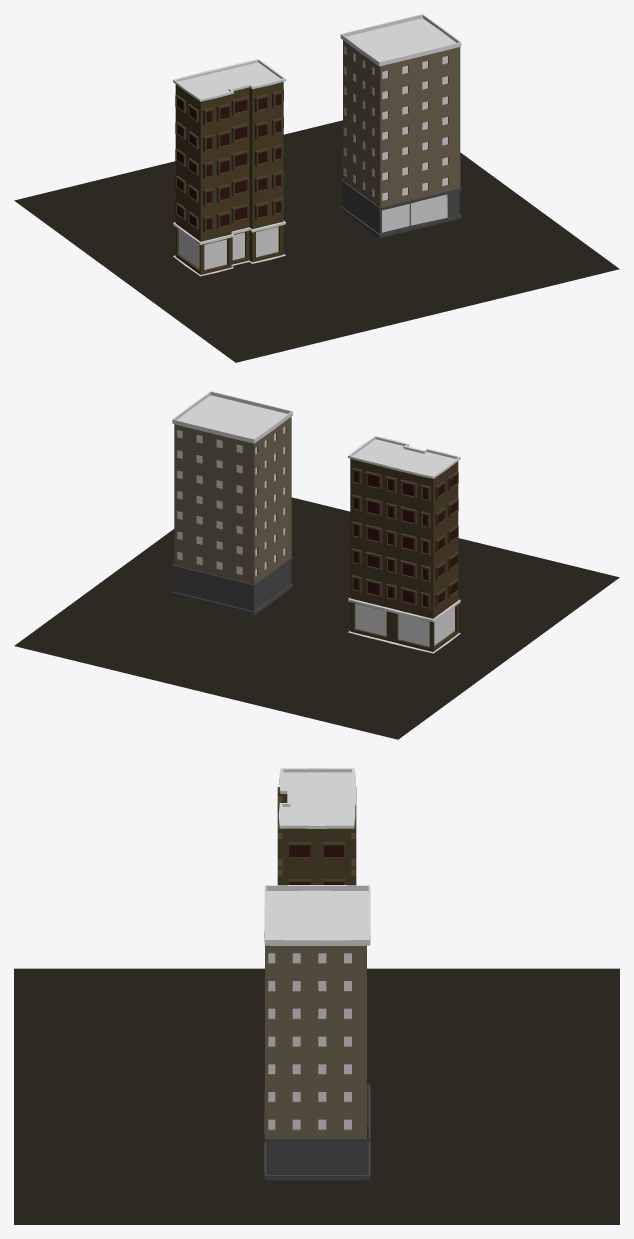
Rendered from Lowpolybuildings.fbx.
The picture shows the model from 3 angles, top to bottom: view 1: azimuth 30°, elevation 25°; view 2: azimuth 150°, elevation 25°; view 3: azimuth 270°, elevation 25°; orthographic projection. The views are drawn at different scales.
Parts seen in each view (by area): view 1: Plane, Cube.001; view 2: Plane, Cube.001; view 3: Plane, Cube.001.
Part boxes in pixels (<box>): Plane: <box>14,120,619,362</box>; Cube.001: <box>173,14,461,276</box>; Plane: <box>14,497,619,739</box>; Cube.001: <box>172,391,460,653</box>; Plane: <box>14,968,619,1224</box>; Cube.001: <box>264,768,370,1180</box>.
Bounding box in the file's own units: 2395 × 1064 × 2395.
